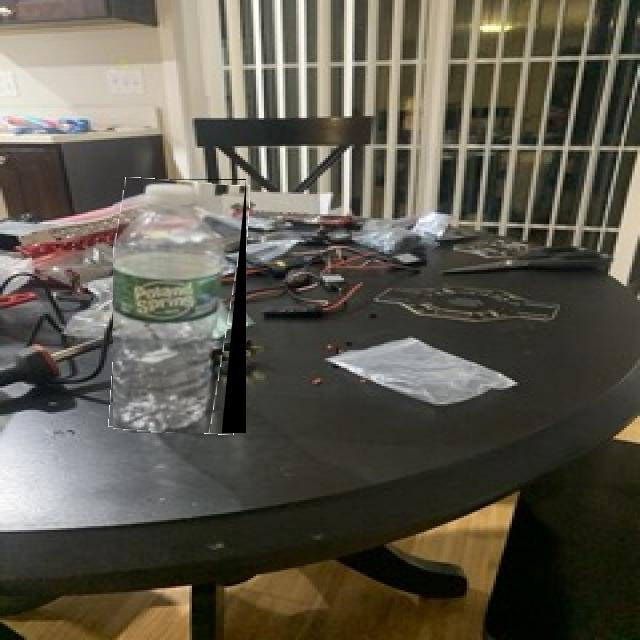water_bottle: (113, 179, 246, 433)
